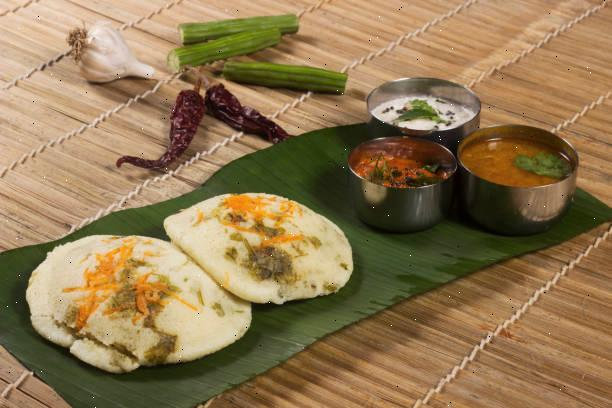idli: (2, 186, 367, 381)
sambhar: (458, 128, 570, 198)
